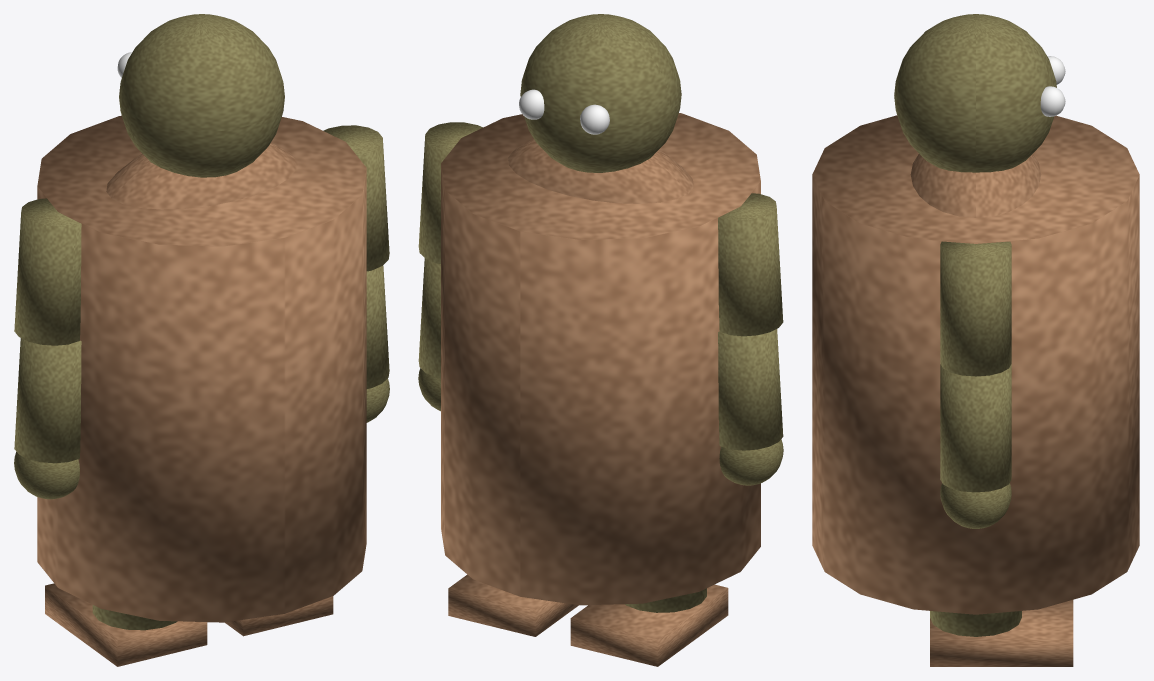
File: djinn.glb
3 views of the same model, side by side, from view 1: azimuth 30°, elevation 25°; view 2: azimuth 150°, elevation 25°; view 3: azimuth 270°, elevation 25° (orthographic). The views are drawn at different scales.
Parts seen in each view (by area): view 1: Robe, Head, UpperArmL, ForearmL, Torso, FootL, UpperArmR, ForearmR, HandL, FootR, ShinL, HandR; view 2: Robe, Head, UpperArmL, ForearmL, FootL, Torso, FootR, UpperArmR, ForearmR, HandL, ShinL, Eye (+2 smaller); view 3: Robe, Head, UpperArmR, ForearmR, FootR, Torso, HandR, ShinR, Eye.001.
Boxes of the visible parts, bbox=[...] form: Robe: bbox=[37, 115, 366, 622]; Head: bbox=[119, 14, 284, 177]; UpperArmL: bbox=[14, 198, 81, 345]; ForearmL: bbox=[14, 338, 81, 463]; Torso: bbox=[106, 142, 297, 209]; FootL: bbox=[45, 583, 207, 666]; UpperArmR: bbox=[323, 125, 389, 271]; ForearmR: bbox=[366, 265, 389, 388]; HandL: bbox=[14, 452, 79, 499]; FootR: bbox=[225, 596, 333, 636]; ShinL: bbox=[92, 605, 177, 630]; HandR: bbox=[366, 378, 389, 422]; Robe: bbox=[441, 113, 760, 605]; Head: bbox=[520, 14, 681, 172]; UpperArmL: bbox=[718, 193, 783, 336]; ForearmL: bbox=[718, 329, 783, 450]; FootL: bbox=[570, 584, 728, 666]; Torso: bbox=[508, 139, 693, 203]; FootR: bbox=[448, 574, 578, 636]; UpperArmR: bbox=[418, 122, 482, 263]; ForearmR: bbox=[418, 258, 440, 378]; HandL: bbox=[719, 439, 783, 485]; ShinL: bbox=[625, 588, 706, 612]; Eye: bbox=[580, 104, 609, 134]; Robe: bbox=[812, 115, 1139, 614]; Head: bbox=[894, 14, 1056, 172]; UpperArmR: bbox=[940, 241, 1011, 376]; ForearmR: bbox=[940, 364, 1011, 492]; FootR: bbox=[930, 600, 1073, 666]; Torso: bbox=[910, 154, 1041, 217]; HandR: bbox=[940, 483, 1011, 528]; ShinR: bbox=[930, 611, 1021, 636]; Eye.001: bbox=[1040, 86, 1065, 116].
Bounding box in the file's own units: 0.6367 × 1 × 0.5.
Materials: 3 (2 with a texture image).
